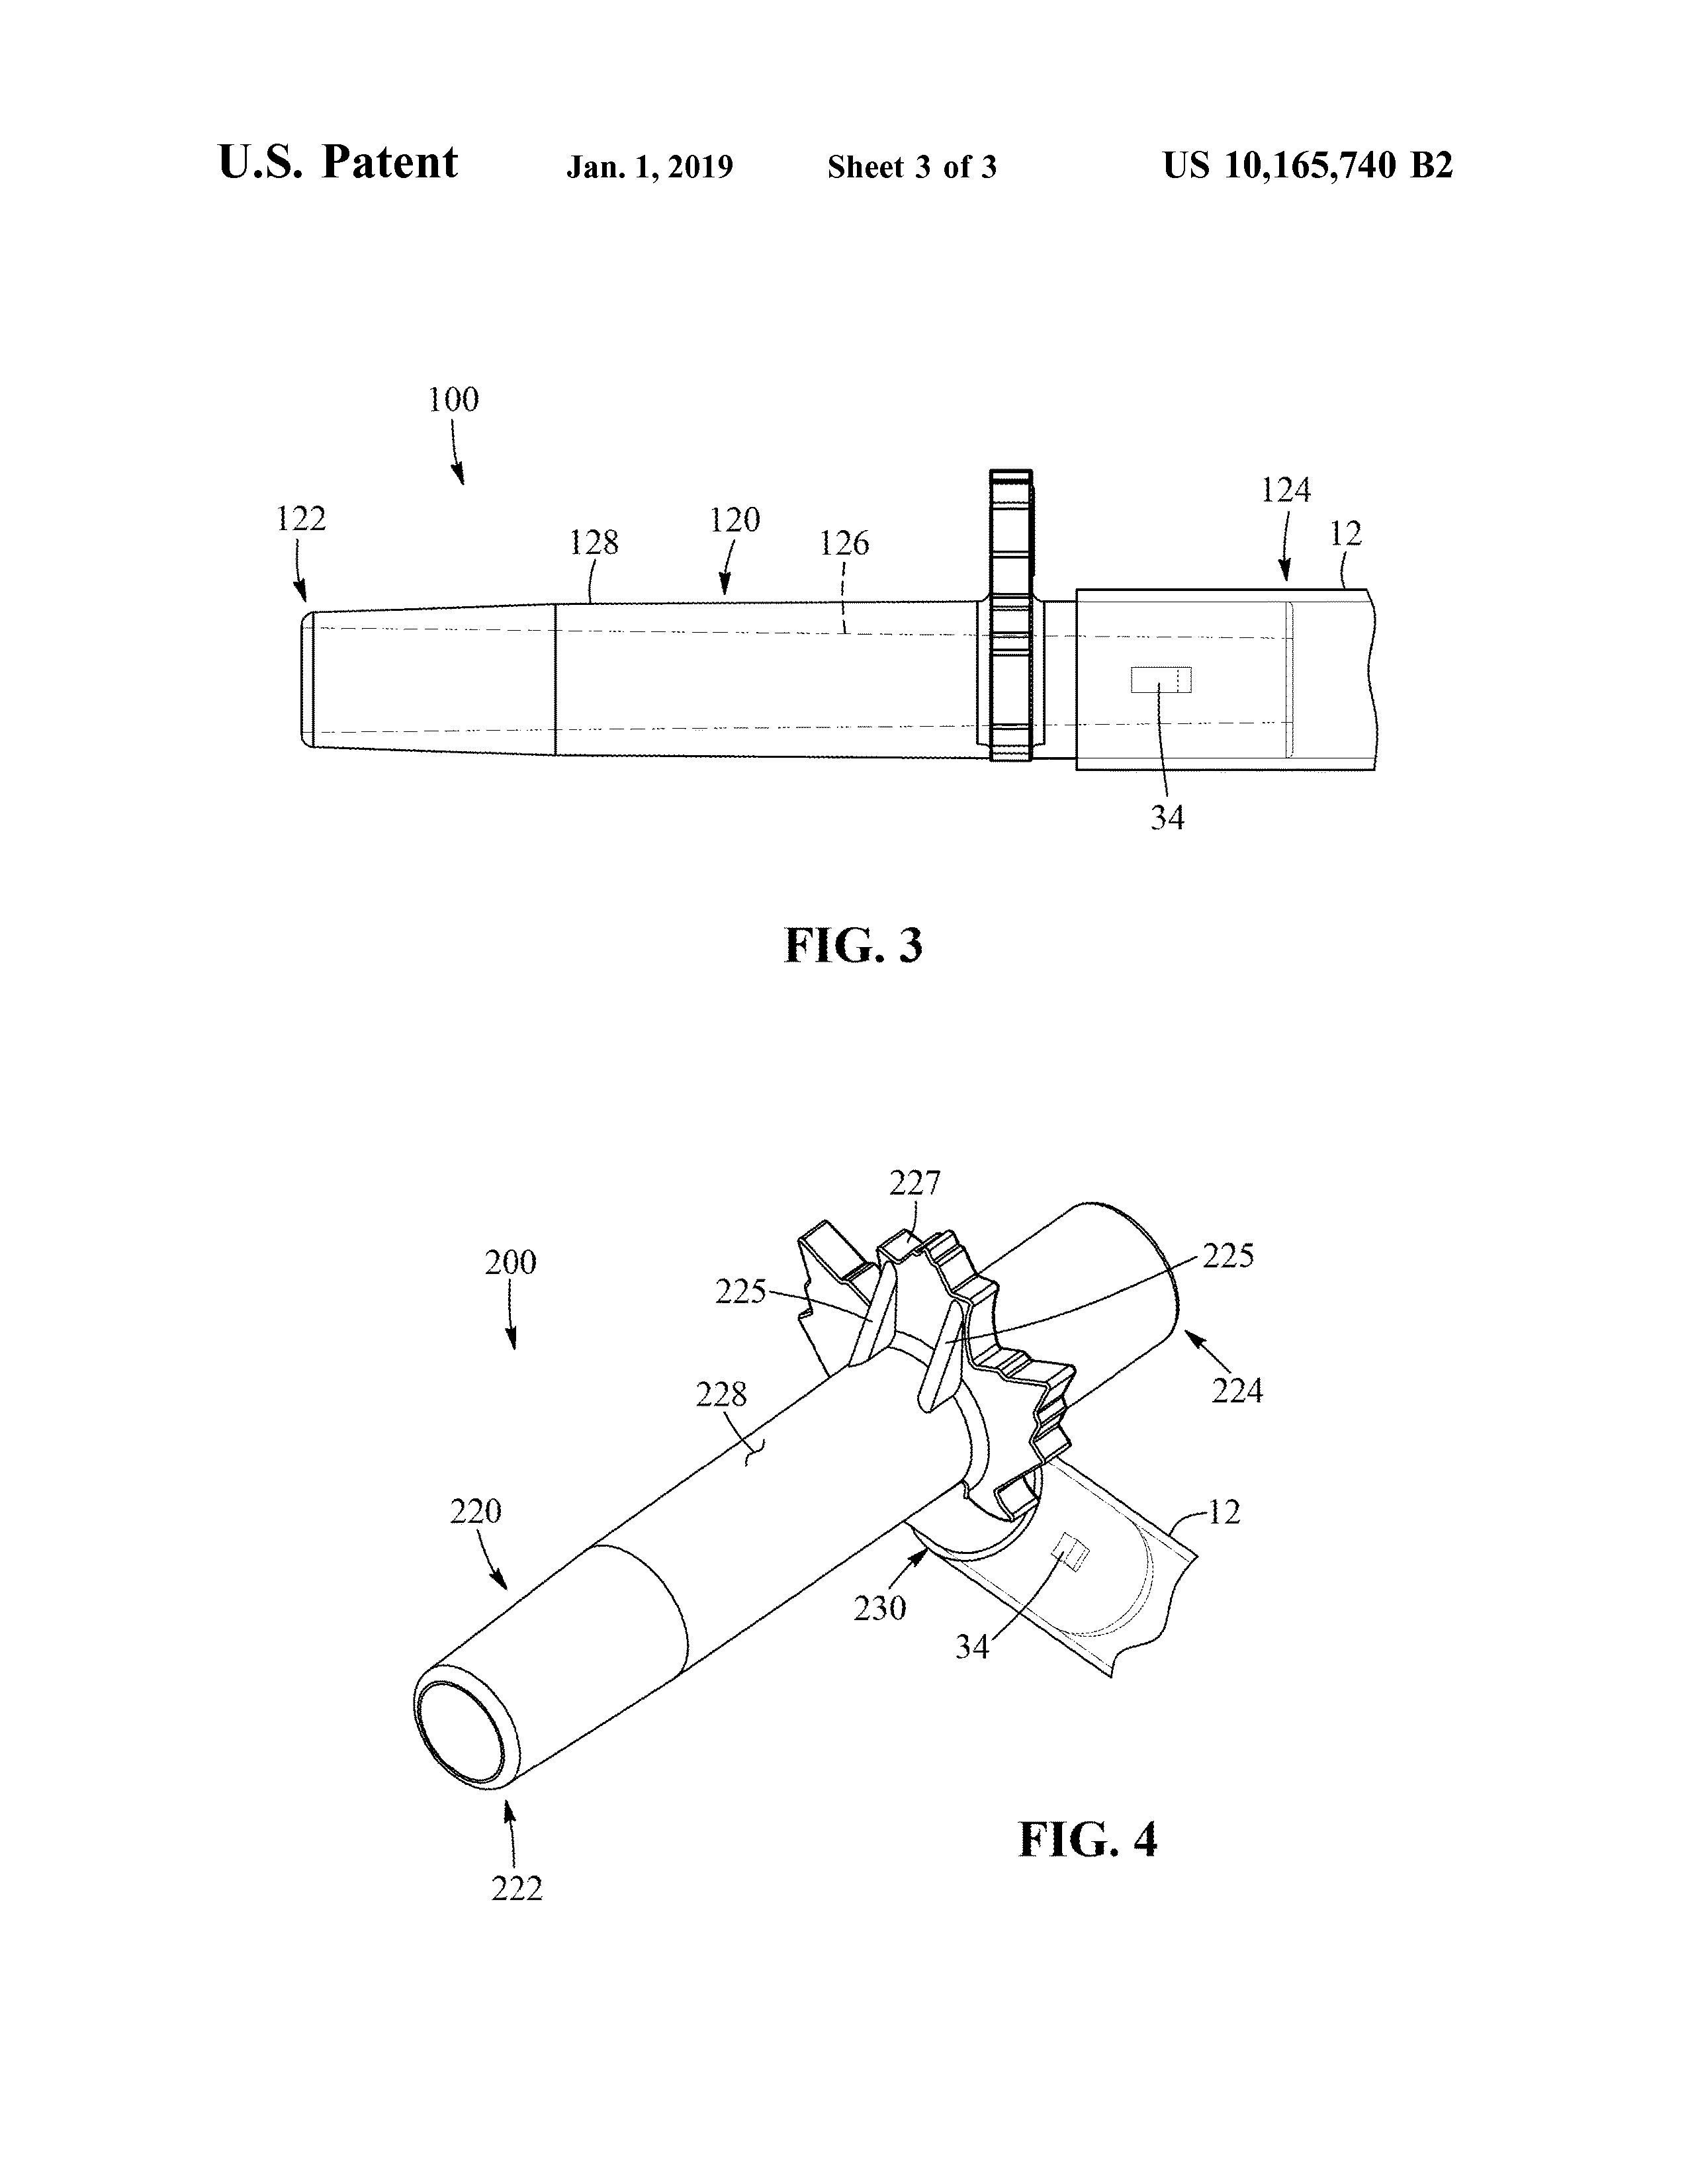patent image: (236, 328, 1430, 1048), (382, 1095, 1309, 1936)
